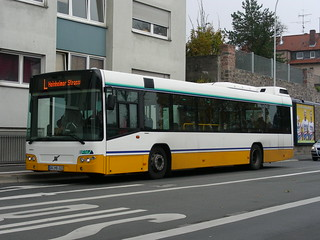bus: (24, 67, 295, 179)
